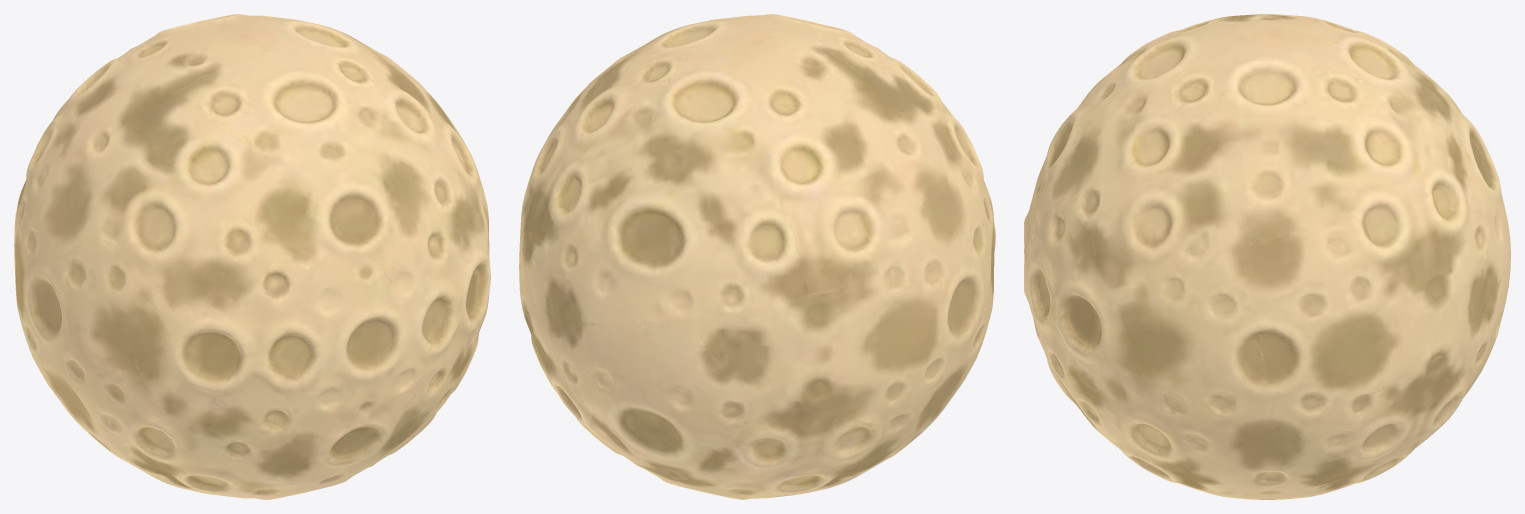
The model's file is poplur_moon_full_lite.glb.
3 renders of one model, left to right at view 1: azimuth 30°, elevation 25°; view 2: azimuth 150°, elevation 25°; view 3: azimuth 270°, elevation 25°, orthographic.
Size of the model in its own units: 1.88 by 1.9 by 1.9.
1 material, 1 textured.
